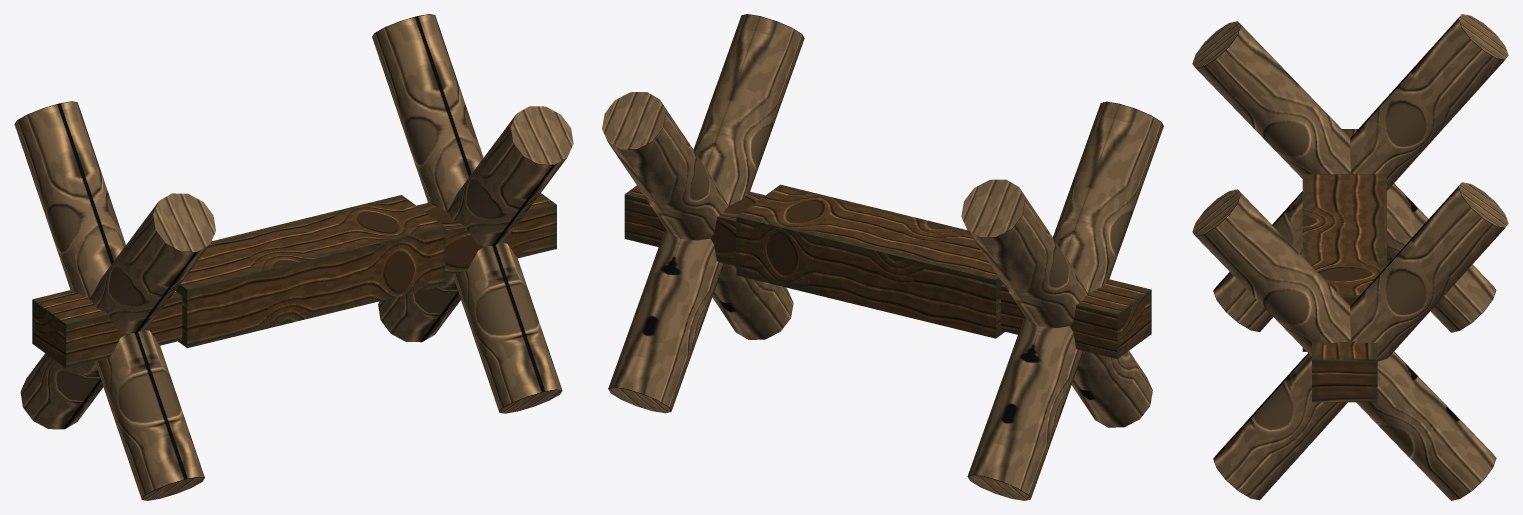
Rendered from barricade.FBX.
3 renders of one model, left to right at view 1: azimuth 30°, elevation 25°; view 2: azimuth 150°, elevation 25°; view 3: azimuth 270°, elevation 25°, orthographic. The views are drawn at different scales.
Visible parts, largest first — view 1: Box002, Cone004, Cone001, Cone002, Cone003, Box001; view 2: Box002, Cone002, Cone003, Cone001, Cone004, Box001; view 3: Cone003, Cone004, Cone002, Cone001, Box002, Box001.
Boxes of the visible parts, x1=… form: Box002: x1=175, y1=195, x2=445, y2=348; Cone004: x1=372, y1=14, x2=562, y2=413; Cone001: x1=14, y1=101, x2=204, y2=500; Cone002: x1=20, y1=193, x2=215, y2=429; Cone003: x1=378, y1=106, x2=573, y2=342; Box001: x1=32, y1=193, x2=556, y2=368; Box002: x1=736, y1=184, x2=1004, y2=338; Cone002: x1=967, y1=101, x2=1163, y2=500; Cone003: x1=608, y1=14, x2=804, y2=413; Cone001: x1=961, y1=179, x2=1152, y2=427; Cone004: x1=602, y1=92, x2=793, y2=339; Box001: x1=624, y1=185, x2=1151, y2=358; Cone003: x1=1192, y1=189, x2=1496, y2=500; Cone004: x1=1213, y1=182, x2=1508, y2=500; Cone002: x1=1192, y1=21, x2=1496, y2=332; Cone001: x1=1213, y1=14, x2=1508, y2=331; Box002: x1=1302, y1=174, x2=1386, y2=351; Box001: x1=1312, y1=129, x2=1377, y2=402.
Size of the model in its own units: 84.42 by 52.93 by 48.93.
